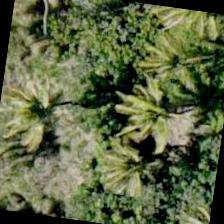Kelapa_Sawit: (109, 58, 211, 160), (78, 120, 180, 222), (123, 14, 223, 117), (0, 68, 83, 169), (139, 3, 223, 62)
